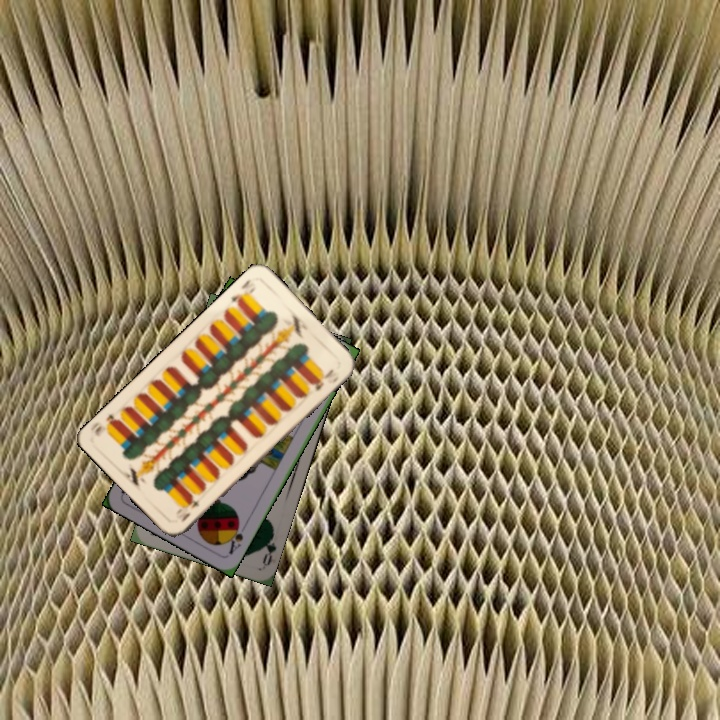E10: (227, 275, 259, 309), (177, 492, 204, 525)
GO: (258, 527, 279, 568)
SA: (223, 517, 246, 557)
